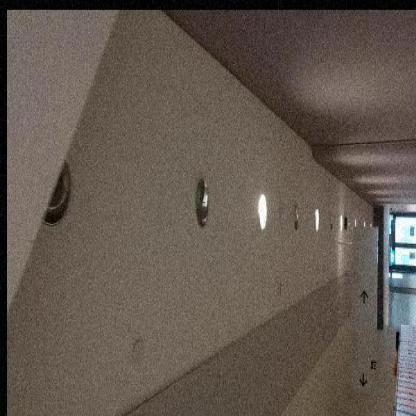light_off: (41, 139, 78, 241), (181, 157, 218, 242), (291, 182, 301, 247), (324, 199, 336, 252), (343, 202, 350, 246)
